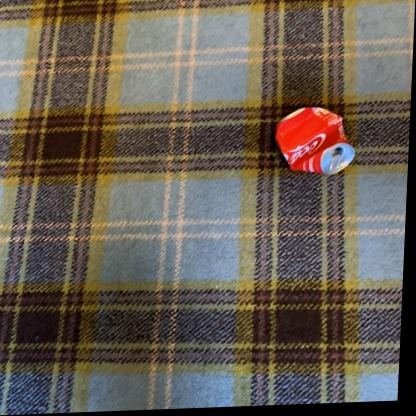trash: (276, 107, 354, 174)
